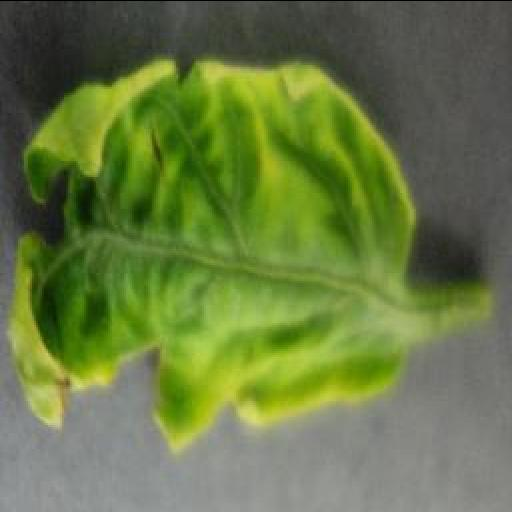disease_tomato: (6, 58, 422, 450)
